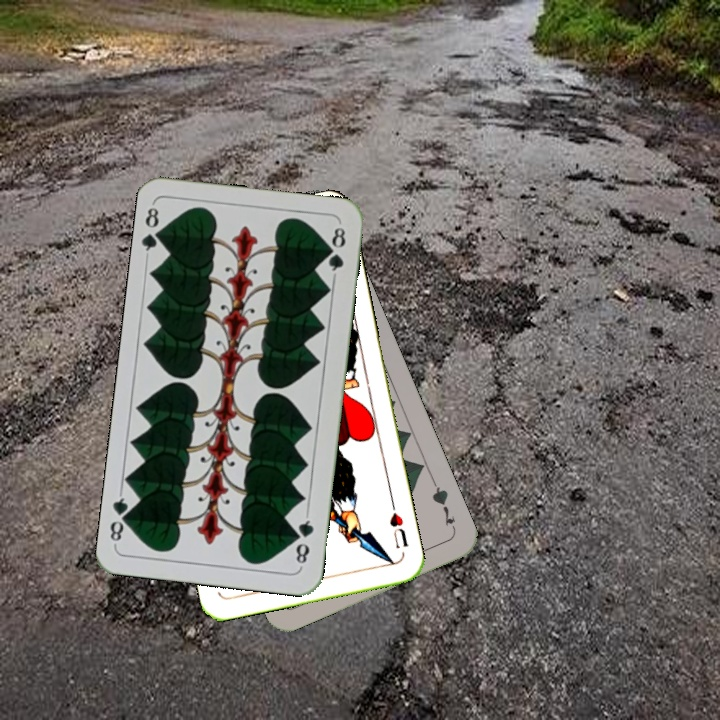G7: (427, 478, 459, 534)
G8: (138, 201, 168, 260), (291, 510, 317, 570)
HU: (385, 508, 411, 551)
